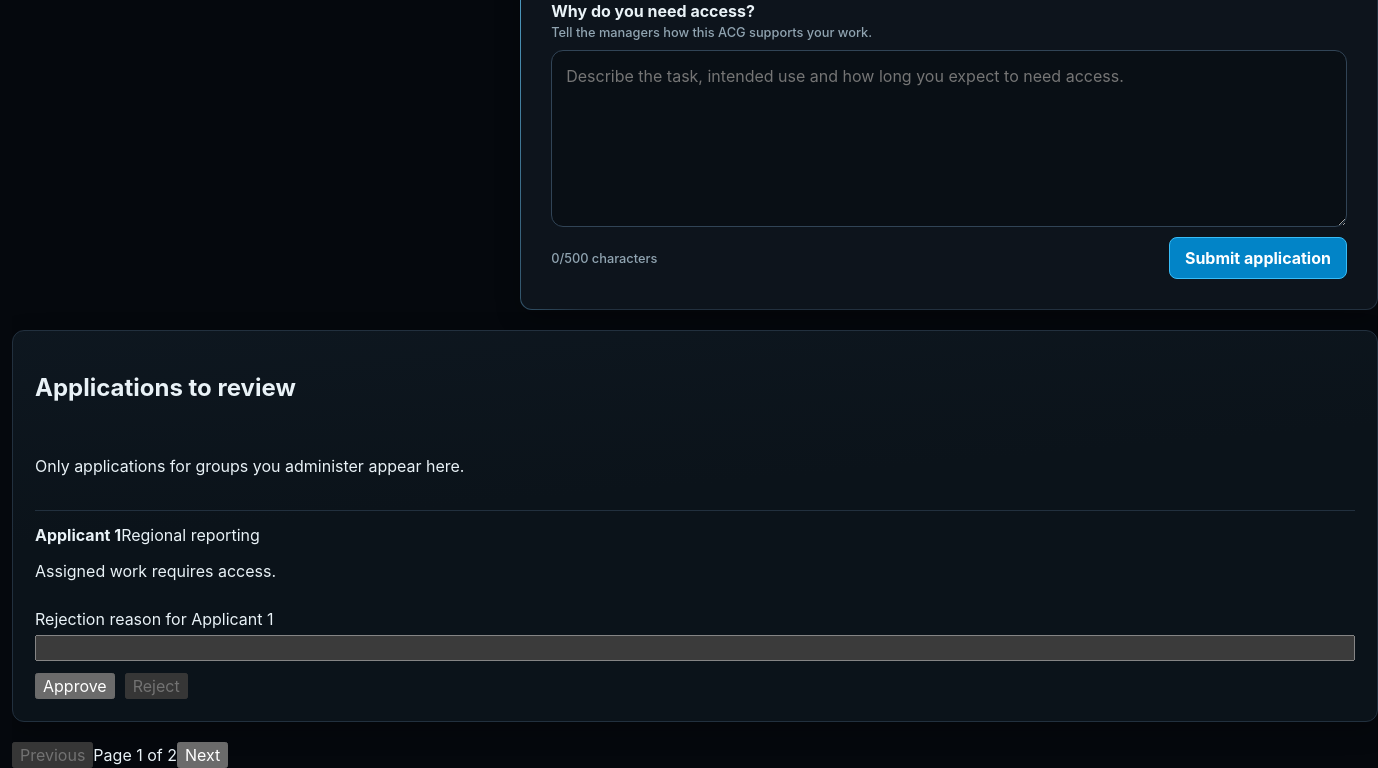
Scenario: pages through a delegated review queue in both directions
(page scrolled)
Expected: the text "Applicant 1" is shown, [35,525,121,545]
Click the button "Next" at [203, 755], box [177,742,228,767]
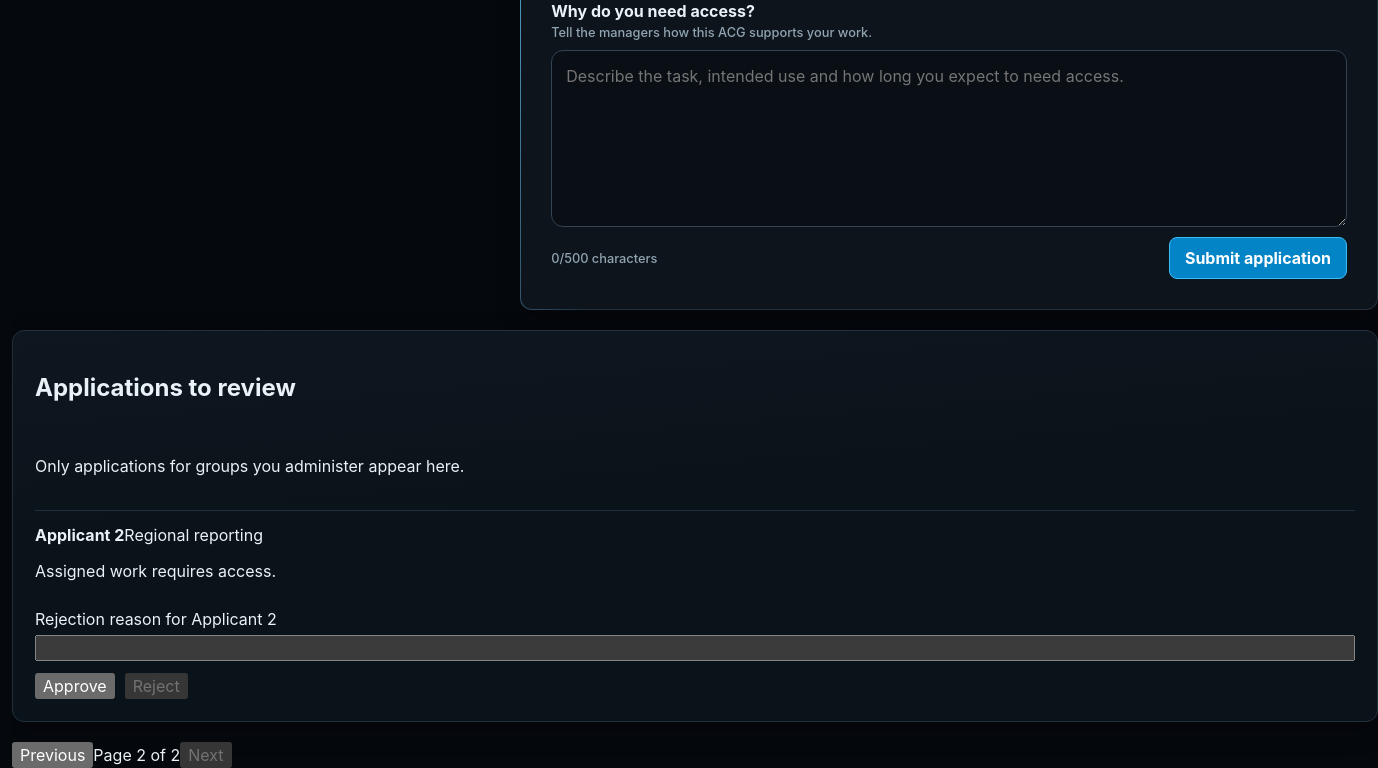
Now the text "Applicant 2" is shown, box [35,525,124,545]
Click the button "Previous" at [53, 755], box [12,742,93,767]
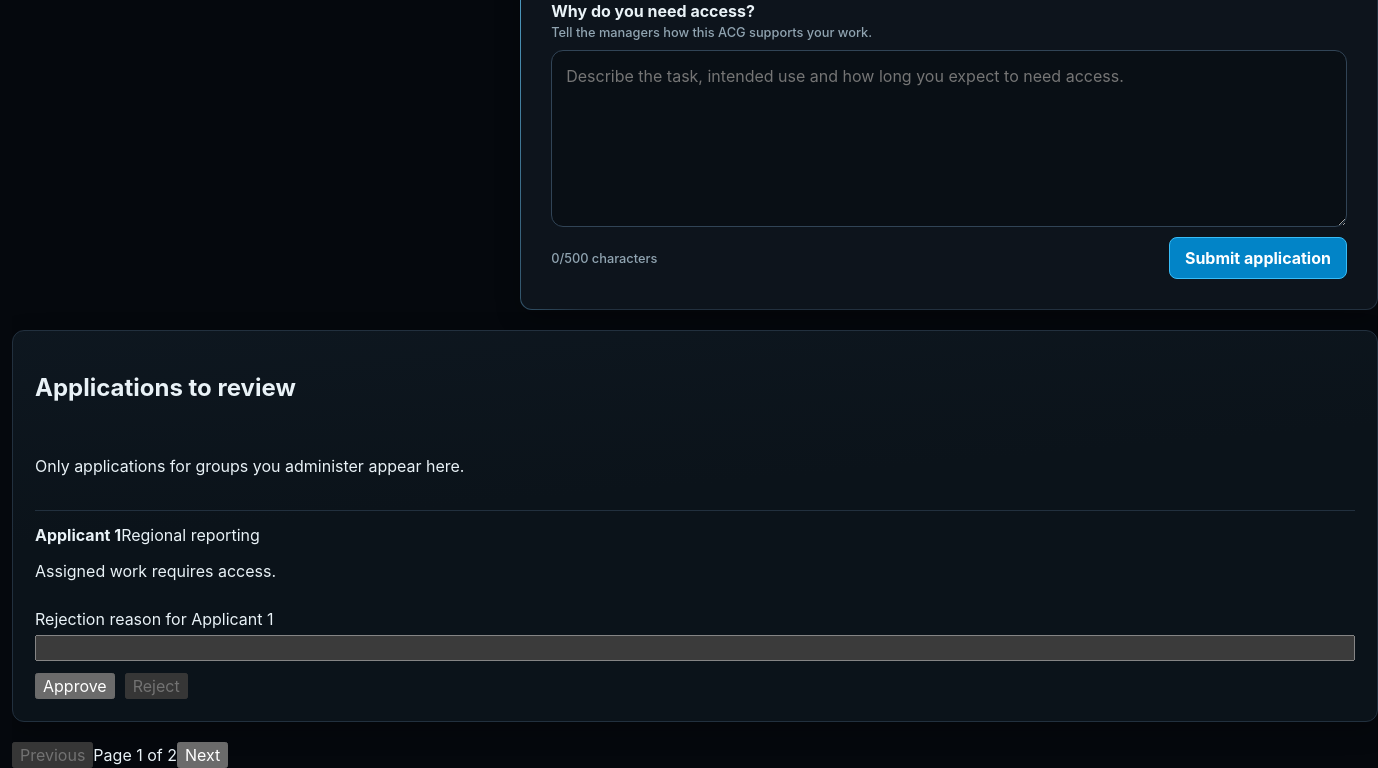
Now the text "Applicant 1" is shown, box [35,525,121,545]
